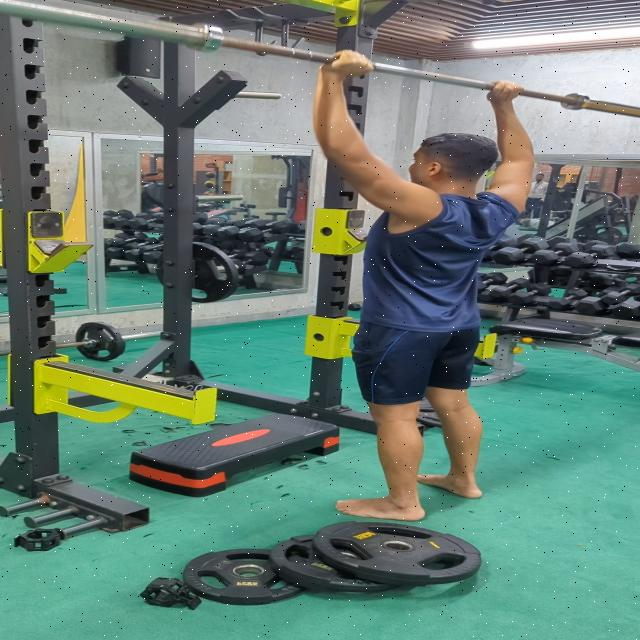Normal_OverheadPress: (210, 40, 557, 522)
